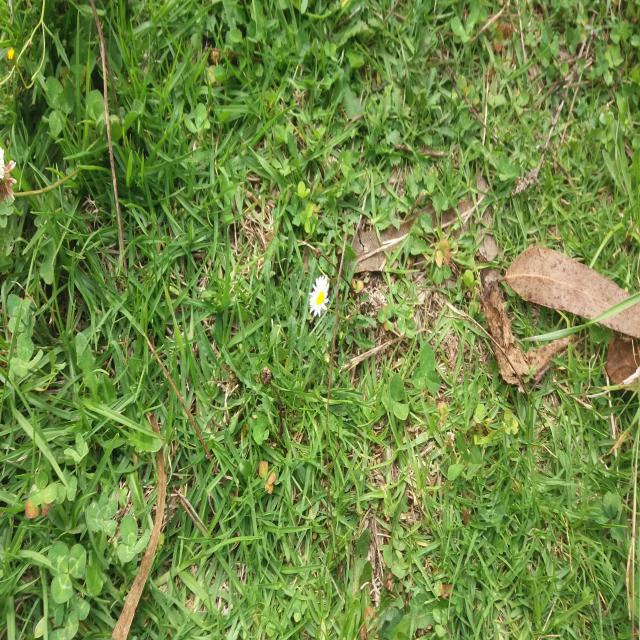Four Leaf Clover: (520, 347, 548, 367), (397, 314, 415, 339)
